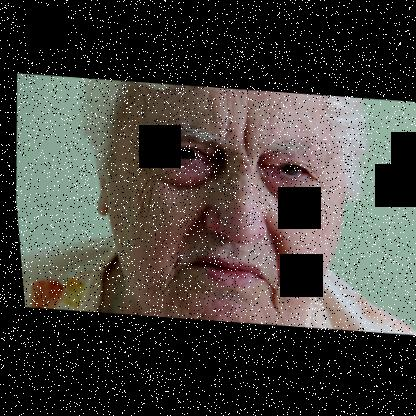Female: (76, 75, 359, 333)
